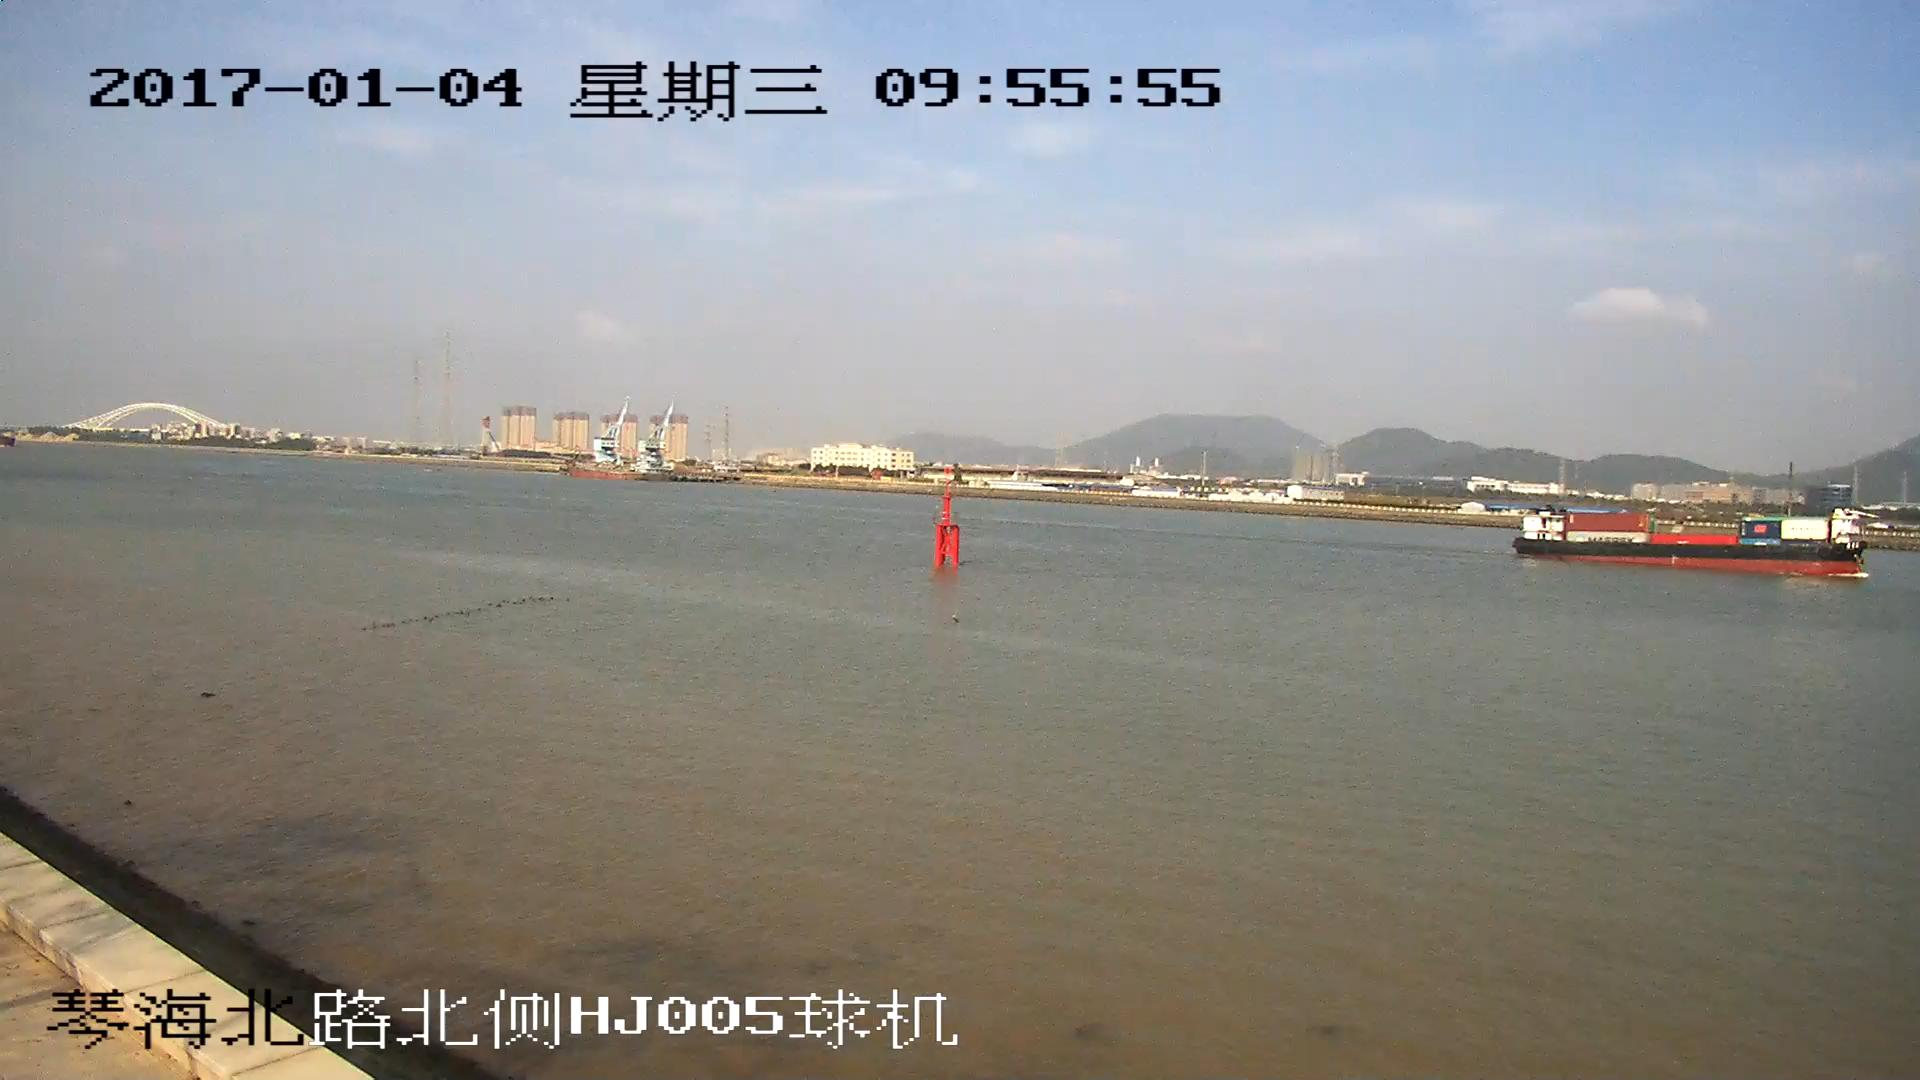container ship: (1516, 503, 1863, 573)
